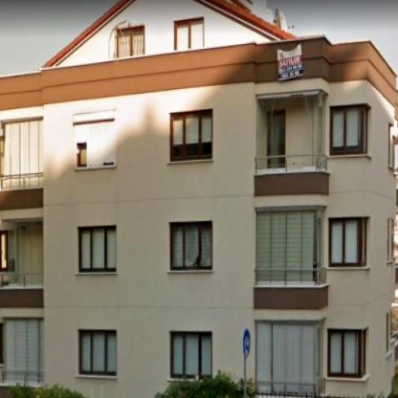door: (267, 110, 286, 168)
